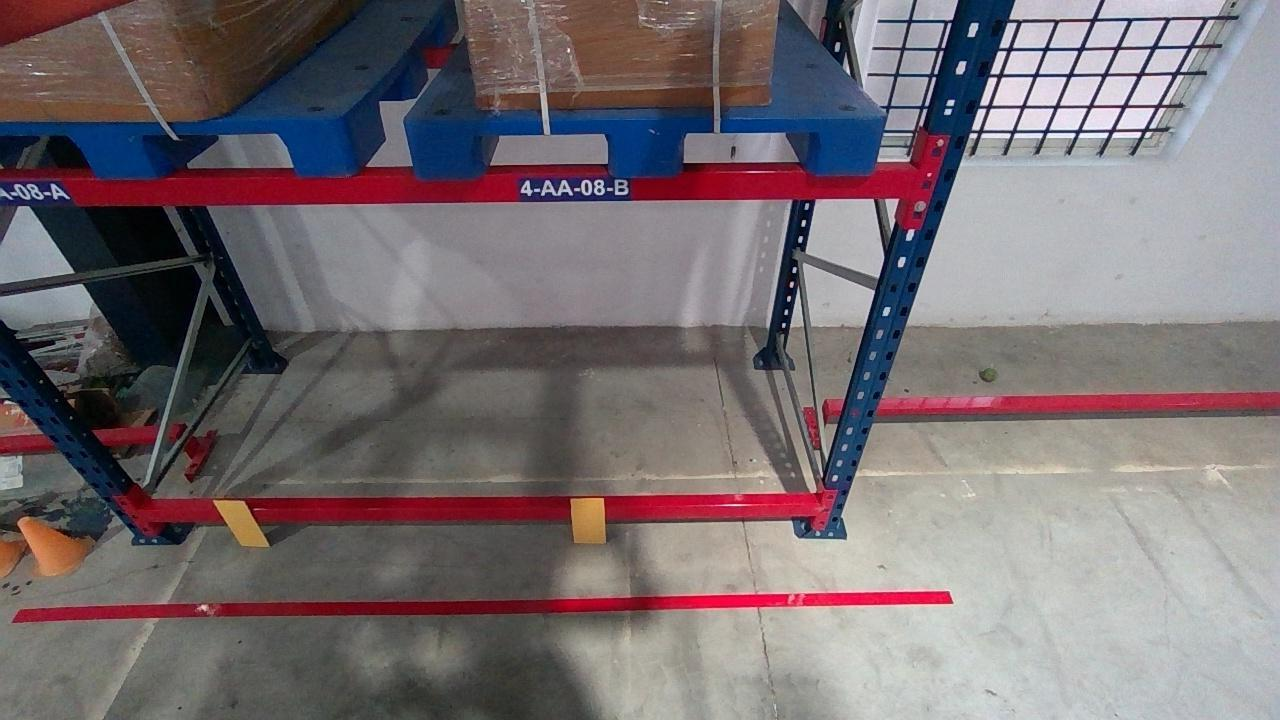h_rack: (5, 170, 919, 205), (140, 502, 821, 523)
orange_strip: (210, 499, 271, 546), (569, 498, 605, 543)
red_line: (6, 591, 951, 617)
small_pallet: (408, 115, 885, 174), (2, 119, 347, 177)
